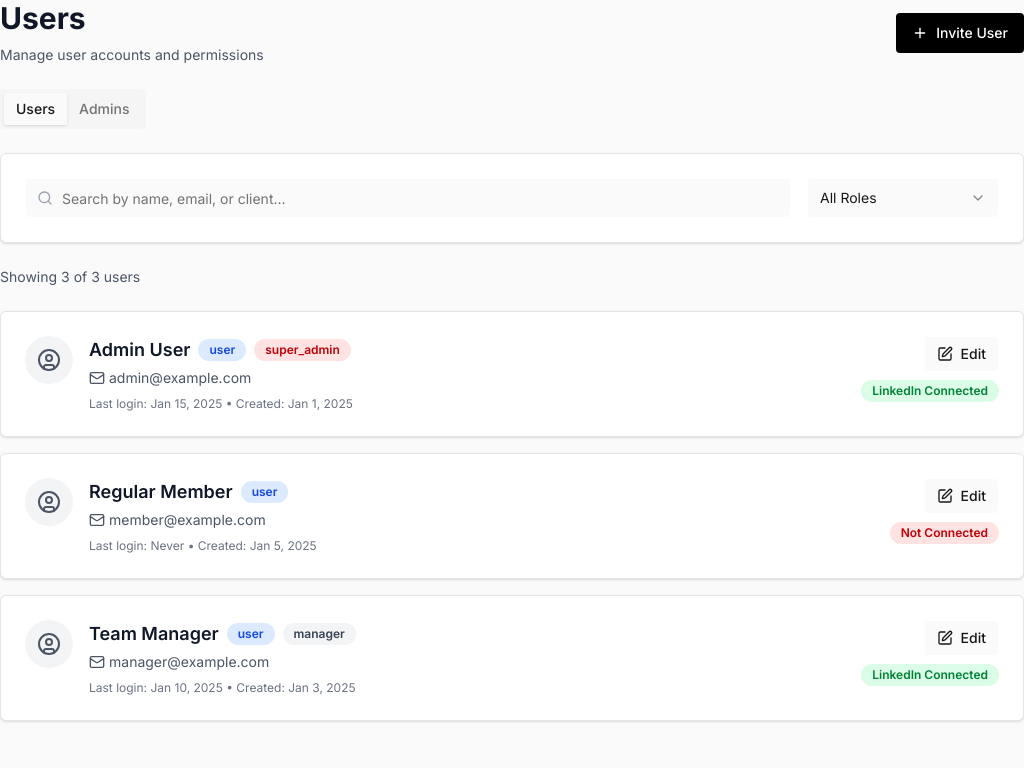
Admin Users Page › Create User Modal › should have email field
Expected: the heading "Admin User" is shown, [89,336,190,364]
Click the button "Invite User".
click(960, 32)  # box [896,12,1023,52]
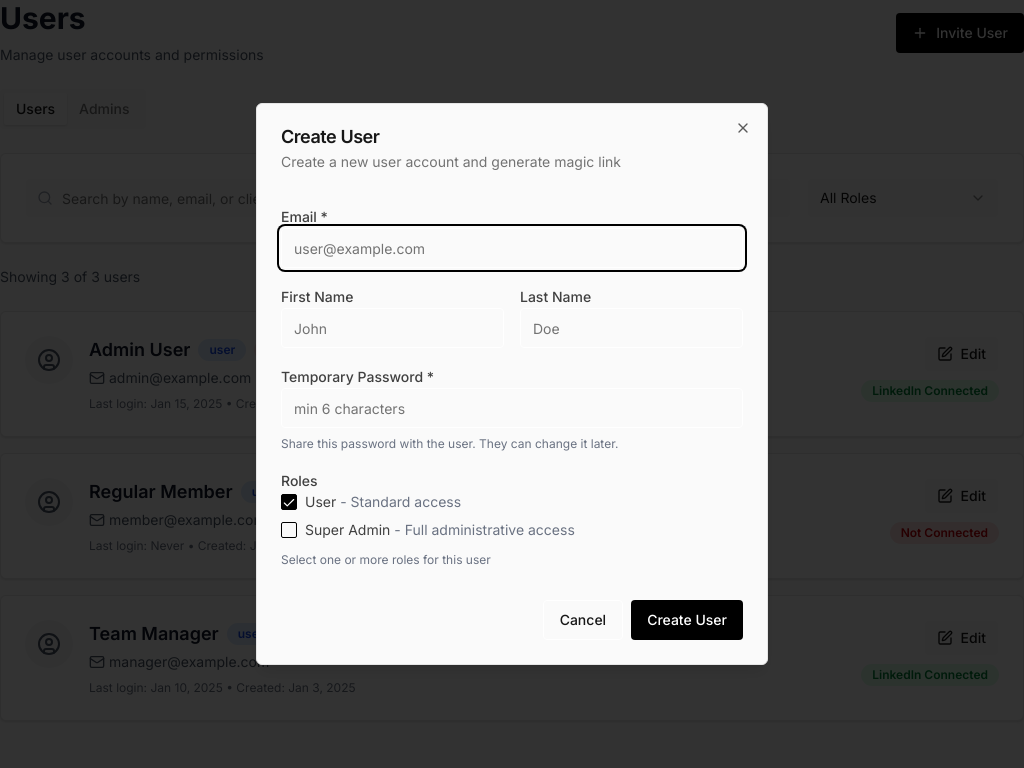
Expected: the field with placeholder "user@example.com" is shown, [281,228,743,268]
